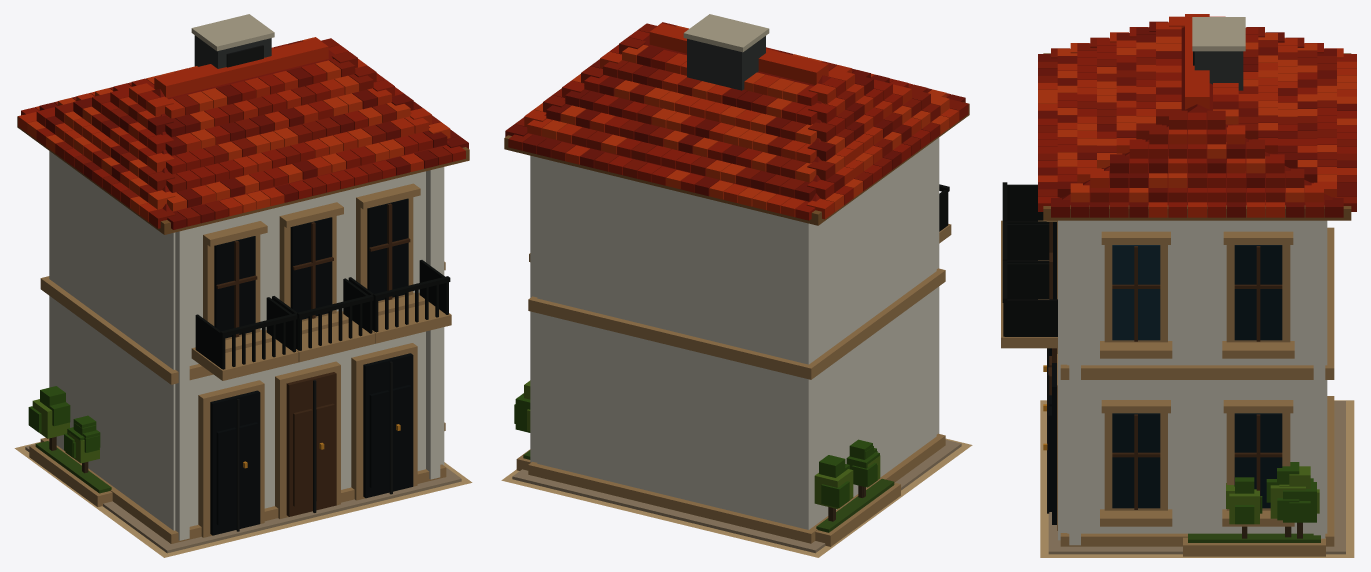
File: SM_Mapa_005.fbx
The picture shows the model from 3 angles, left to right: view 1: azimuth 30°, elevation 25°; view 2: azimuth 150°, elevation 25°; view 3: azimuth 270°, elevation 25°; orthographic projection. The views are drawn at different scales.
Visible parts, largest first — view 1: SM_Mapa_005; view 2: SM_Mapa_005; view 3: SM_Mapa_005.
Boxes of the visible parts, x1,y1,x2,y2 form: SM_Mapa_005: (14, 14, 472, 557); SM_Mapa_005: (501, 14, 972, 557); SM_Mapa_005: (1001, 14, 1356, 557).
Size of the model in its own units: 8 by 7.36 by 10.22.
